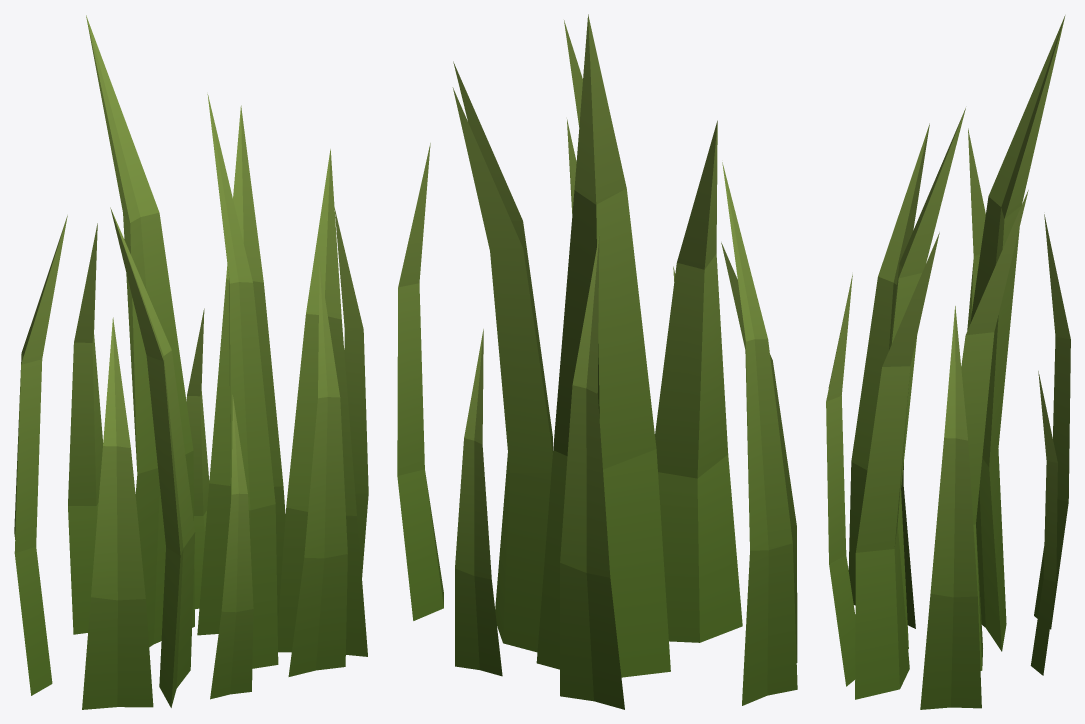
File: Grass_01.glb
3 views of the same model, side by side, from view 1: azimuth 30°, elevation 25°; view 2: azimuth 150°, elevation 25°; view 3: azimuth 270°, elevation 25° (orthographic). The views are drawn at different scales.
Visible parts, largest first — view 1: Grass_01; view 2: Grass_01; view 3: Grass_01.
Boxes of the visible parts, x1,y1,x2,y2 form: Grass_01: (14, 15, 368, 709); Grass_01: (397, 14, 797, 709); Grass_01: (826, 15, 1070, 709).
Bounding box in the file's own units: 0.2721 × 0.4642 × 0.1711.
Materials: 1 (1 with a texture image).
